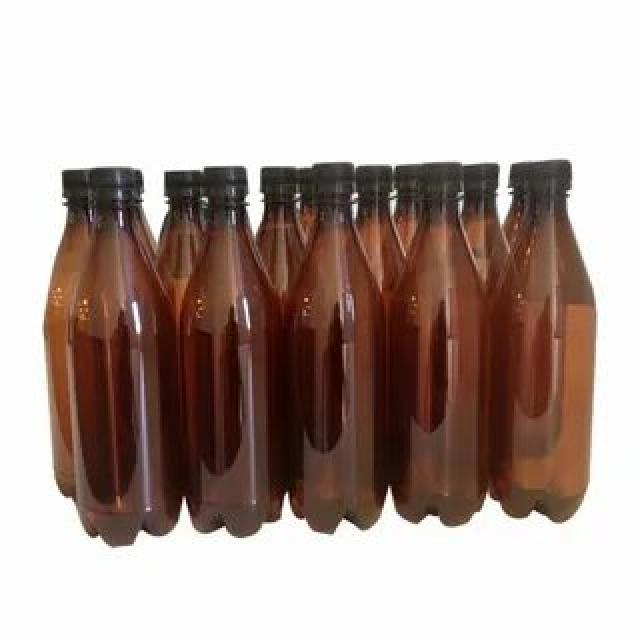brown: (72, 200, 180, 545), (177, 198, 283, 540), (490, 193, 595, 525), (293, 198, 387, 537), (392, 198, 486, 528)
